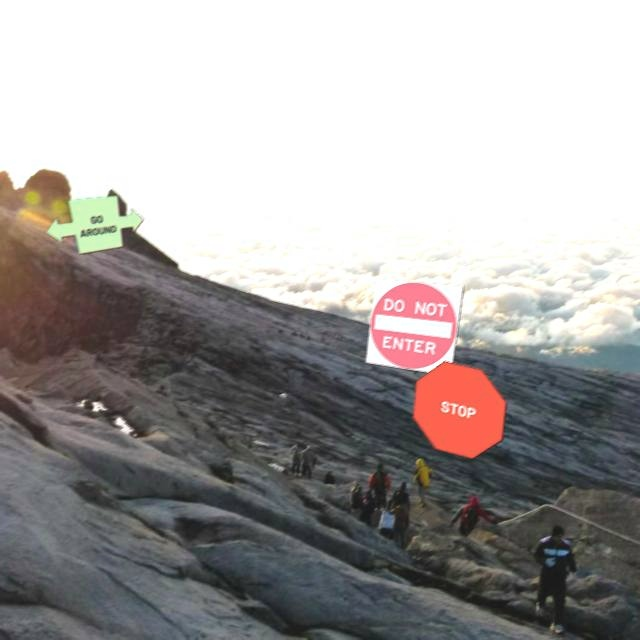DO_NOT_ENTER: (365, 278, 464, 377)
GO_AROUND: (45, 195, 144, 255)
STOP: (412, 361, 507, 460)
